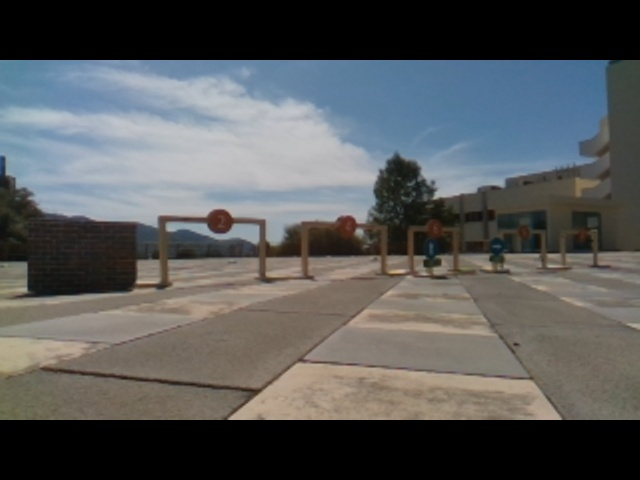arrow_right: (488, 237, 505, 254)
checkpoint_foot: (135, 278, 168, 290), (255, 272, 298, 281), (371, 267, 409, 277)
checkpoint_side: (255, 214, 267, 276), (156, 213, 166, 275), (298, 217, 308, 272), (378, 222, 389, 268)
checkpoint_signal: (156, 211, 267, 225), (299, 220, 388, 230)
four: (338, 216, 359, 237)
wall: (25, 217, 140, 293)
